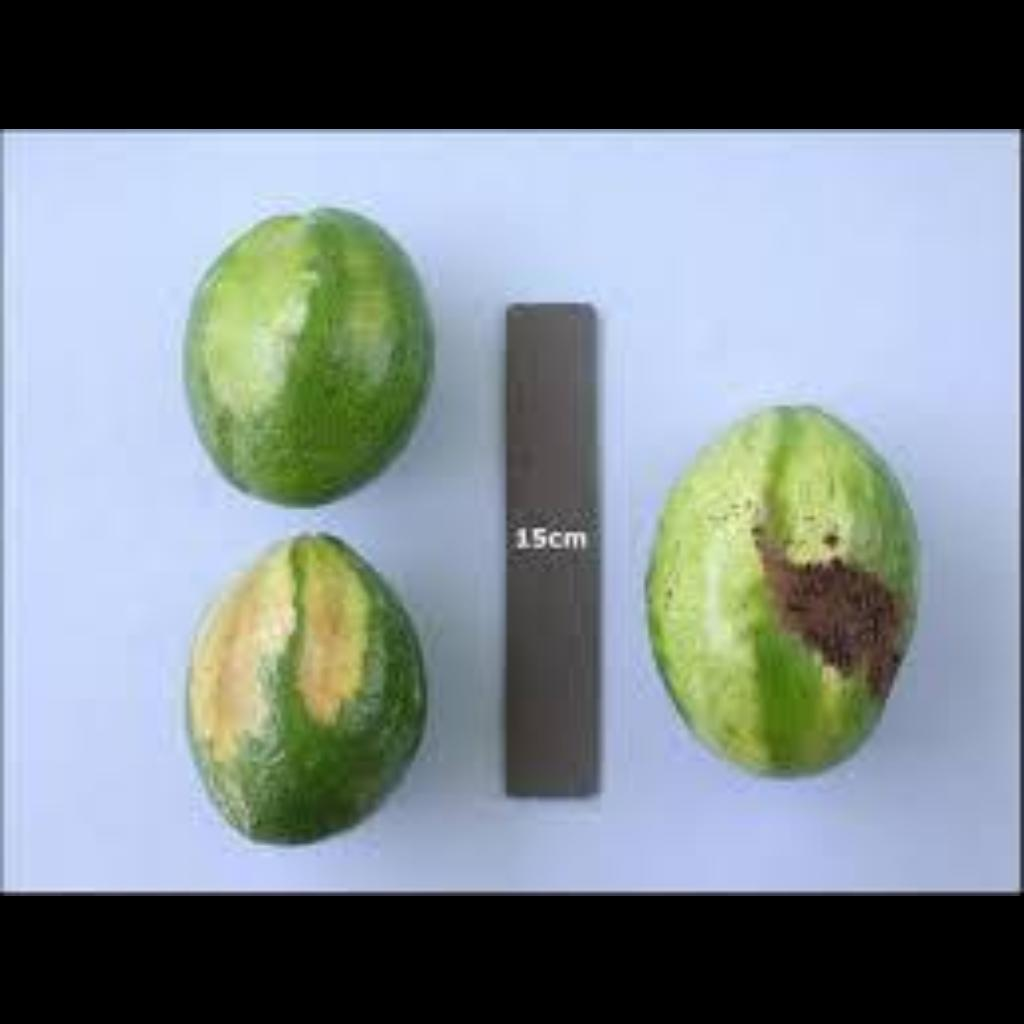cercospora: (629, 438, 929, 766)
